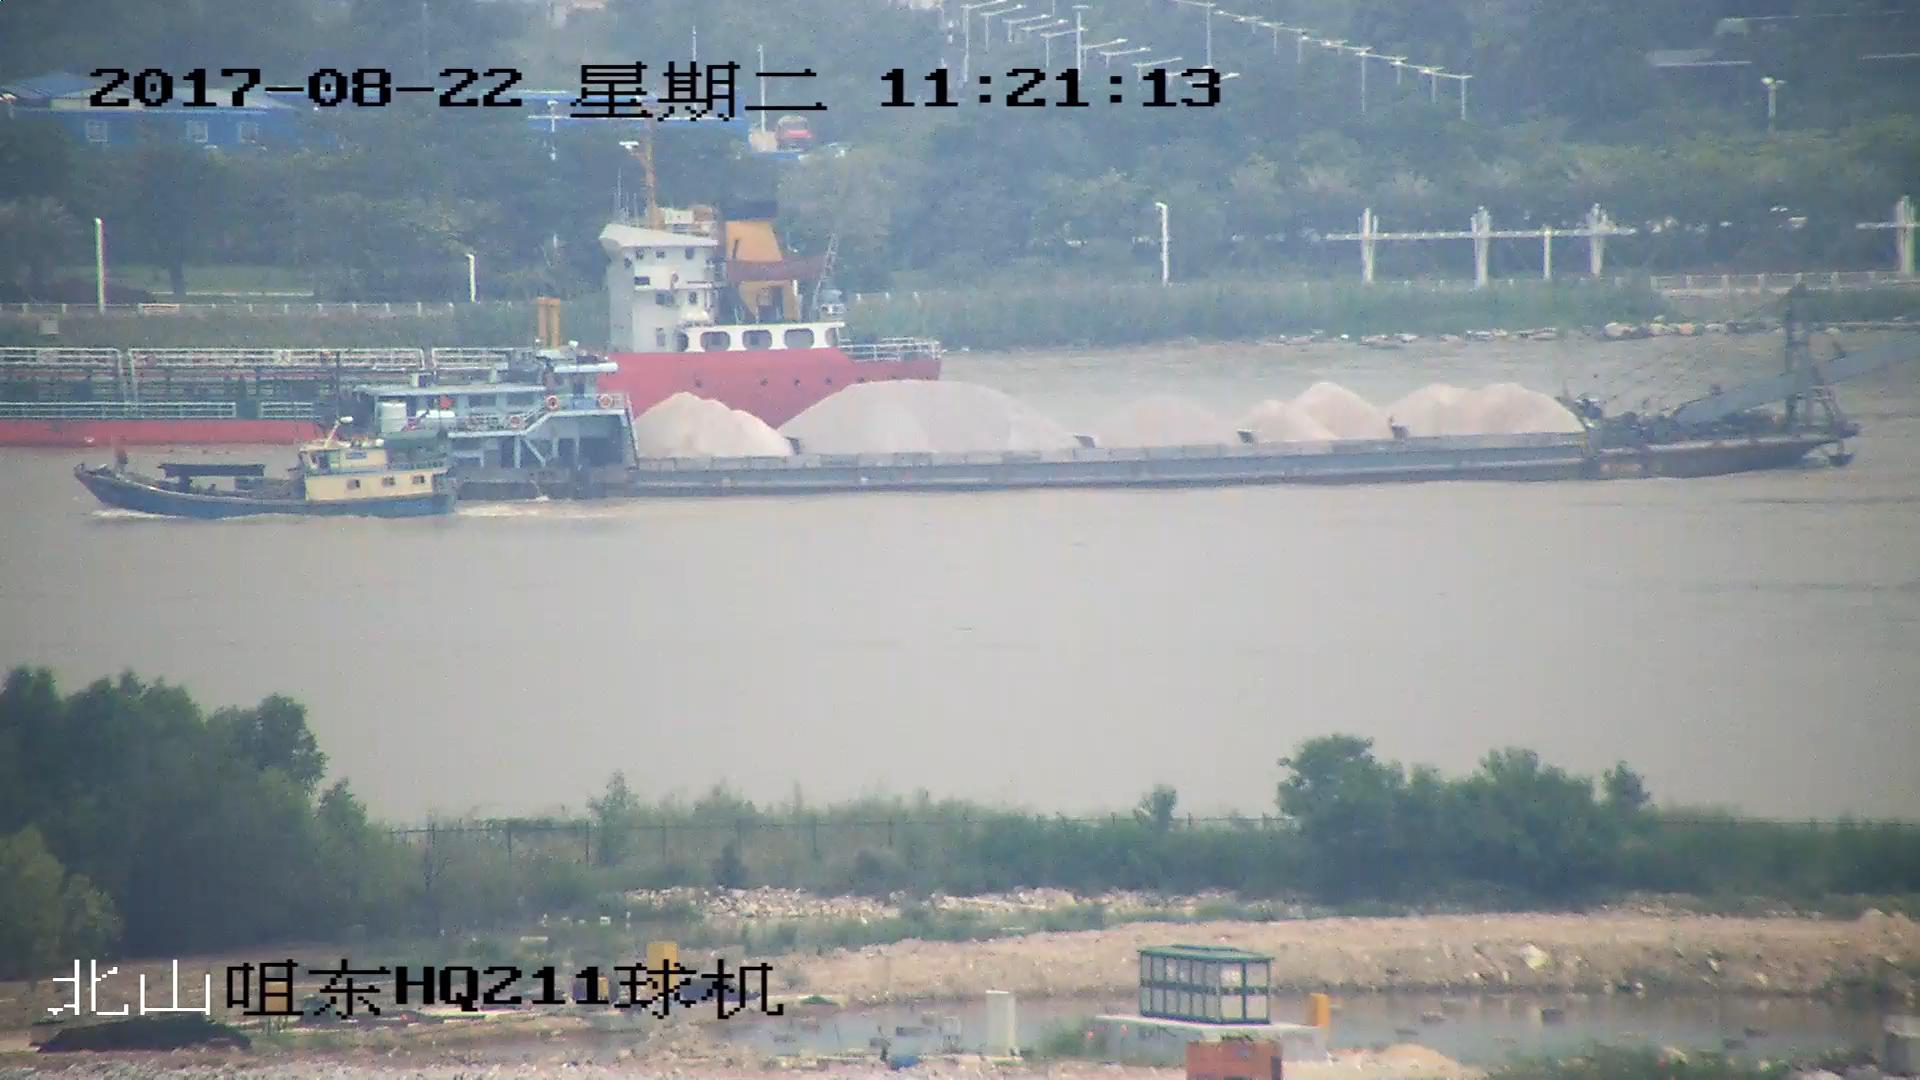Ship: (324, 291, 1920, 493), (3, 127, 949, 451), (73, 419, 460, 525)
